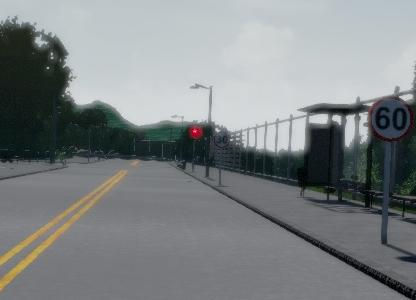Speed_60: (367, 94, 416, 143)
